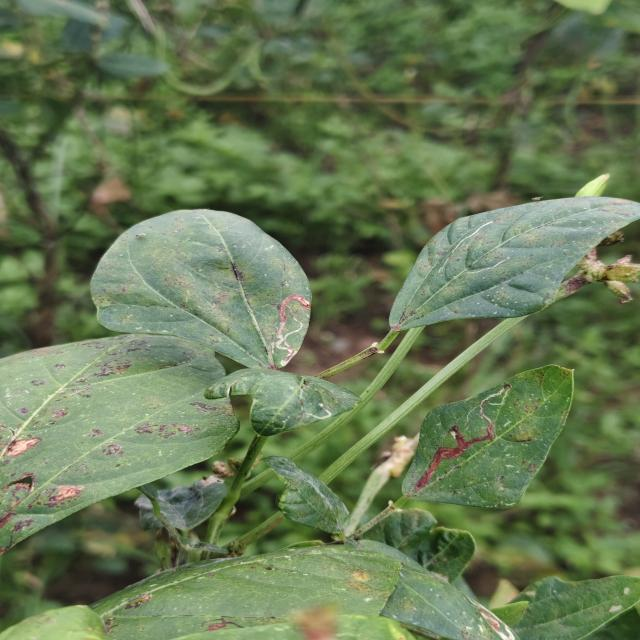leaf-low: (265, 456, 372, 536), (363, 509, 476, 583), (514, 575, 640, 640), (591, 609, 640, 640)
sitaw-aphid-high: (371, 174, 640, 352), (91, 540, 517, 640), (0, 606, 420, 640)
sitaw-aphid-low: (0, 331, 239, 553), (91, 210, 311, 369), (402, 365, 573, 508), (204, 367, 361, 436), (135, 459, 241, 534)
